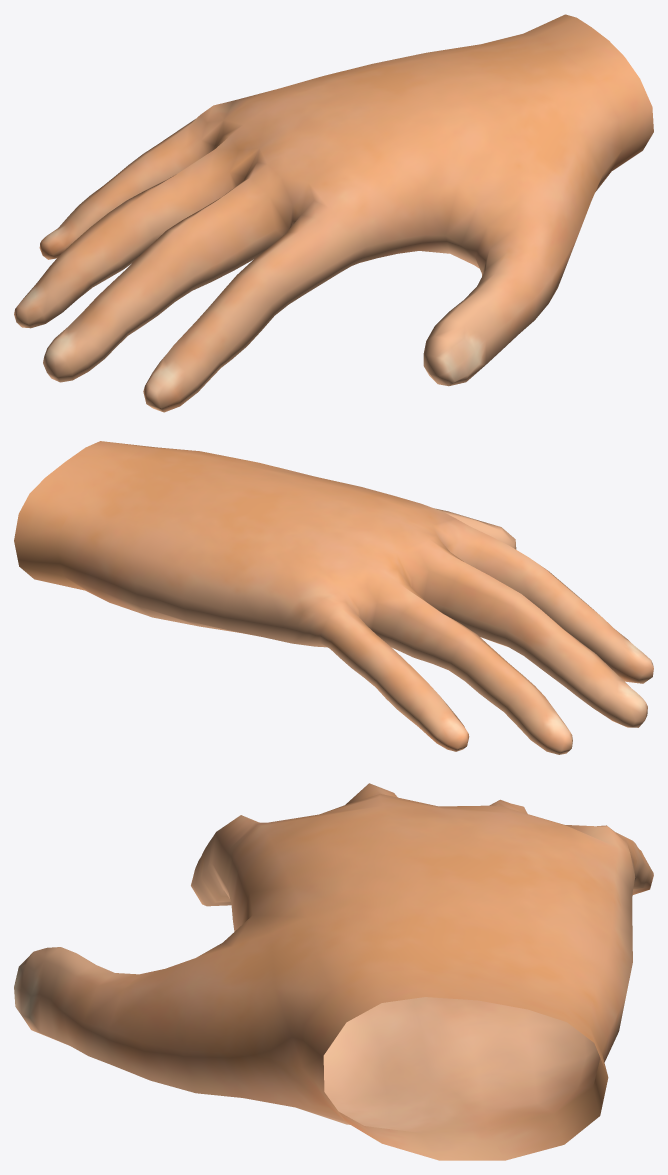
The model's file is H_neutral.fbx.
3 views of the same model, one above another, from view 1: azimuth 30°, elevation 25°; view 2: azimuth 150°, elevation 25°; view 3: azimuth 270°, elevation 25° (orthographic). The views are drawn at different scales.
Parts seen in each view (by area): view 1: H_neutral; view 2: H_neutral; view 3: H_neutral.
Boxes of the visible parts, bbox=[...] form: H_neutral: bbox=[14, 14, 653, 412]; H_neutral: bbox=[14, 441, 653, 754]; H_neutral: bbox=[14, 783, 653, 1160].
Bounding box in the file's own units: 19.95 × 5.92 × 13.69.
Materials: 1 (1 with a texture image).
